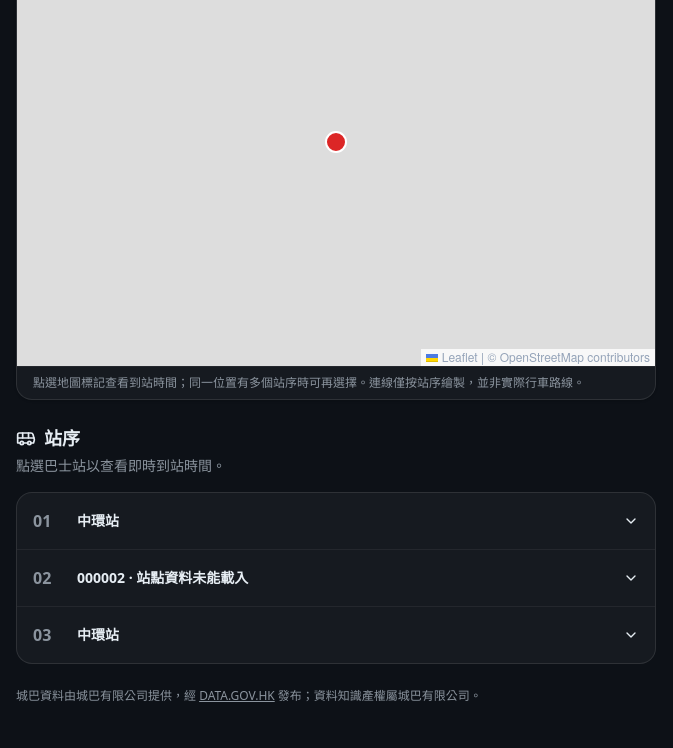
Scenario: Citybus route detail › keeps joint-operation notices and hides old predictions after the source-age limit
(page scrolled)
Expected: the text "中環站" is shown 2 times, [77,511,119,530]; [77,625,119,644]
Click the button "01 中環站".
click(98, 520)  # box [17,493,655,549]
Wait 300000 ms
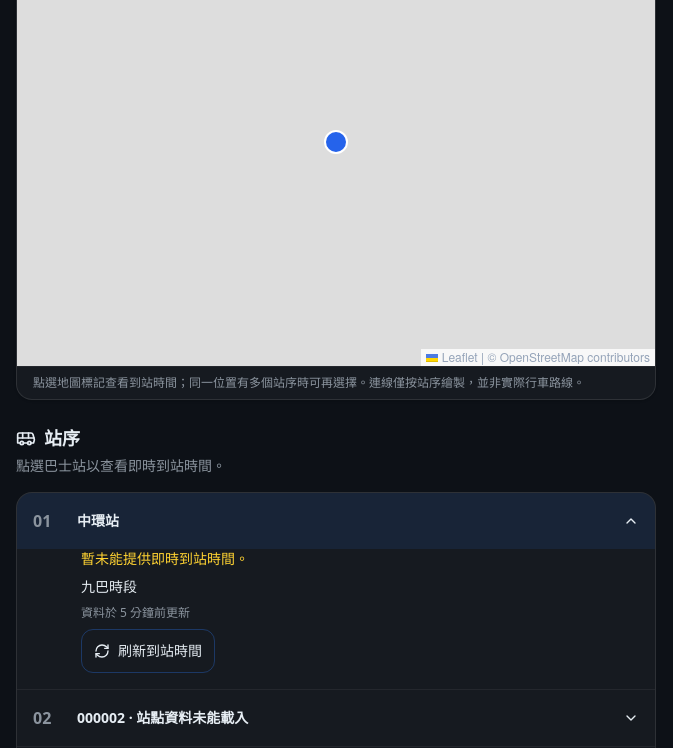
Result: the text "九巴時段" is shown at [81,577,137,596]
Result: the text "暫未能提供即時到站時間。" is shown at [81,549,249,568]
